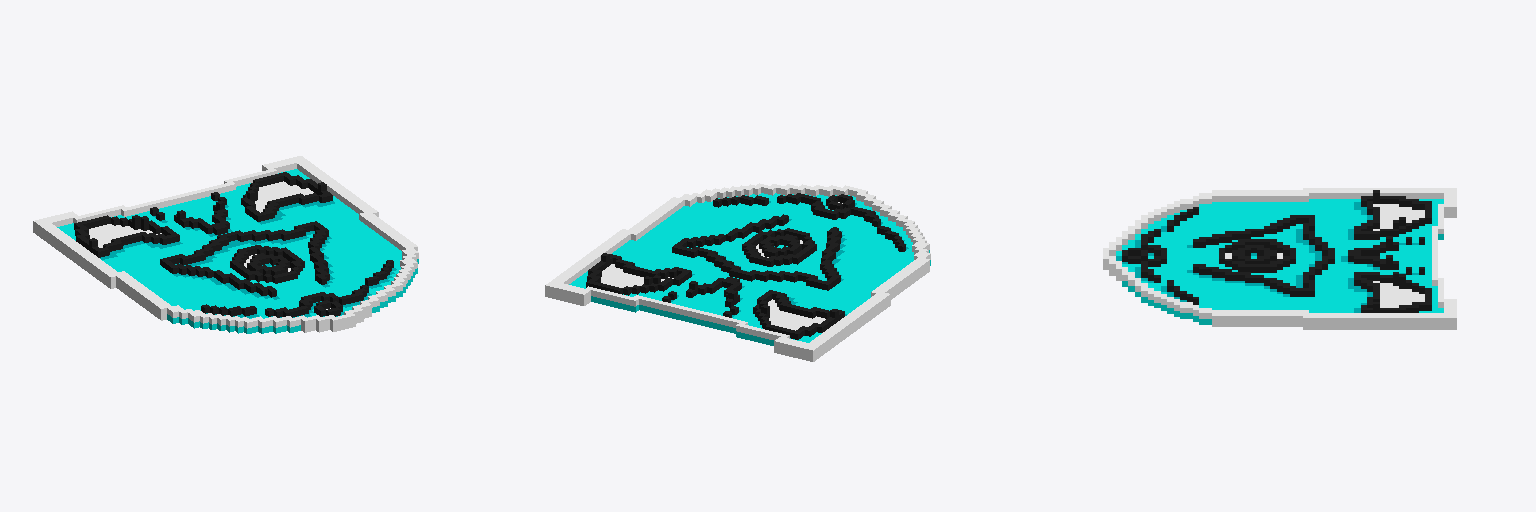
The picture shows the model from 3 angles: view 1: azimuth 30°, elevation 25°; view 2: azimuth 150°, elevation 25°; view 3: azimuth 270°, elevation 25°; orthographic projection.
Visible parts, largest first — view 1: object 1; view 2: object 1; view 3: object 1.
Boxes of the visible parts, x1,y1,x2,y2 form: object 1: [33, 156, 418, 333]; object 1: [545, 183, 930, 361]; object 1: [1103, 188, 1456, 329].
Size of the model in its own units: 4.8 by 0.3 by 5.5.
Materials: 1 (1 with a texture image).